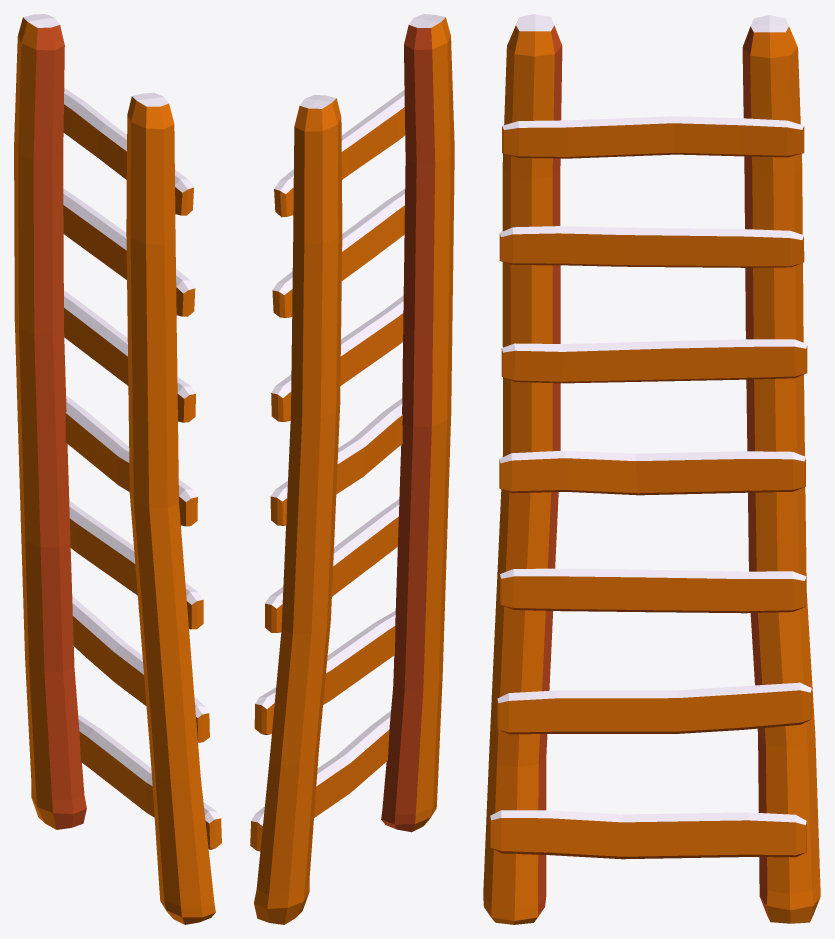
Rendered from item1.glb.
The picture shows the model from 3 angles, left to right: view 1: azimuth 30°, elevation 25°; view 2: azimuth 150°, elevation 25°; view 3: azimuth 270°, elevation 25°; orthographic projection. The views are drawn at different scales.
Parts seen in each view (by area): view 1: Item1; view 2: Item1; view 3: Item1.
Part boxes in pixels (bbox=[...]): Item1: bbox=[14, 14, 221, 924]; Item1: bbox=[250, 14, 454, 924]; Item1: bbox=[483, 14, 820, 924].
Size of what is drawn, in the model's own units: 0.1789 by 1.89 by 0.6559.
Materials: 1 (1 with a texture image).
